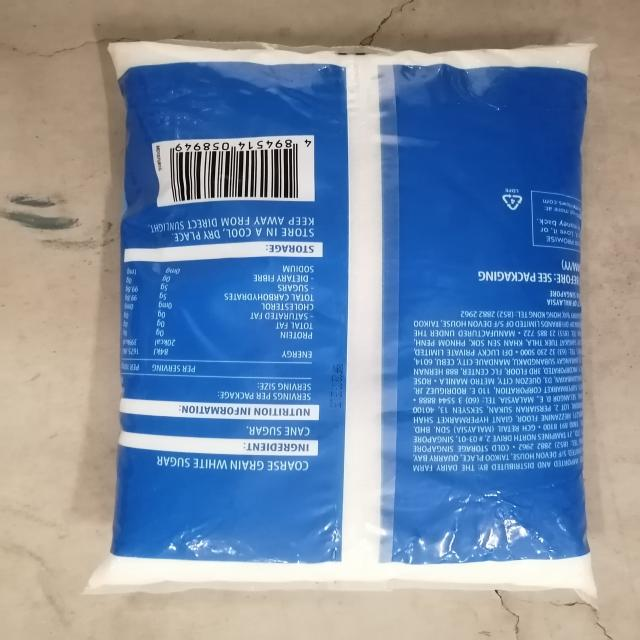object_name: (115, 38, 582, 586)
